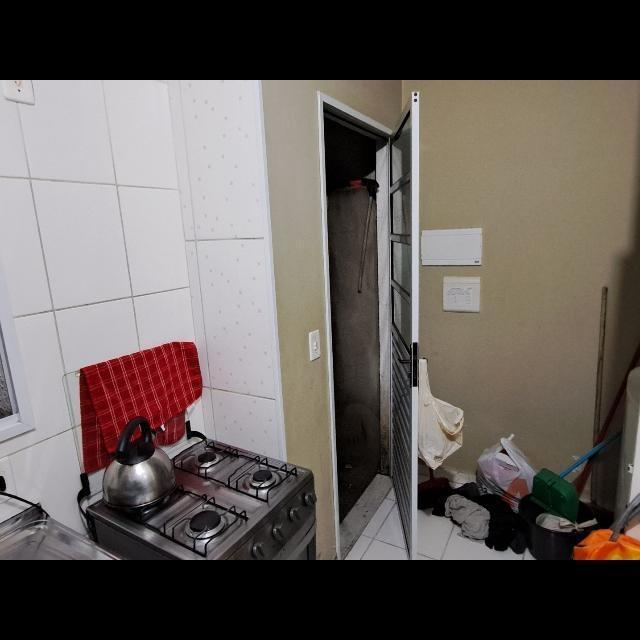door: (374, 89, 444, 558)
